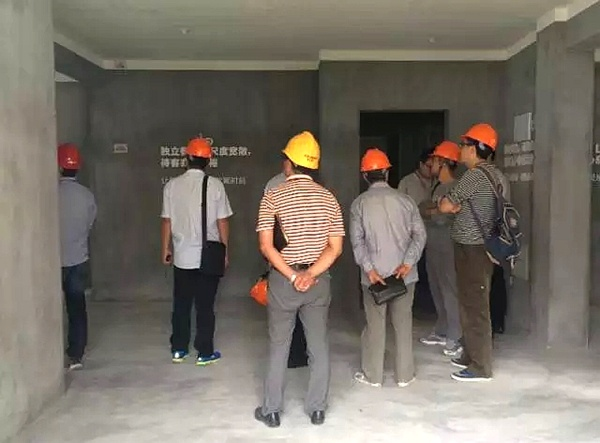red: (457, 121, 500, 166), (359, 146, 391, 186), (180, 136, 214, 171), (430, 138, 459, 177), (55, 141, 83, 180)
yellow: (279, 128, 322, 179)
